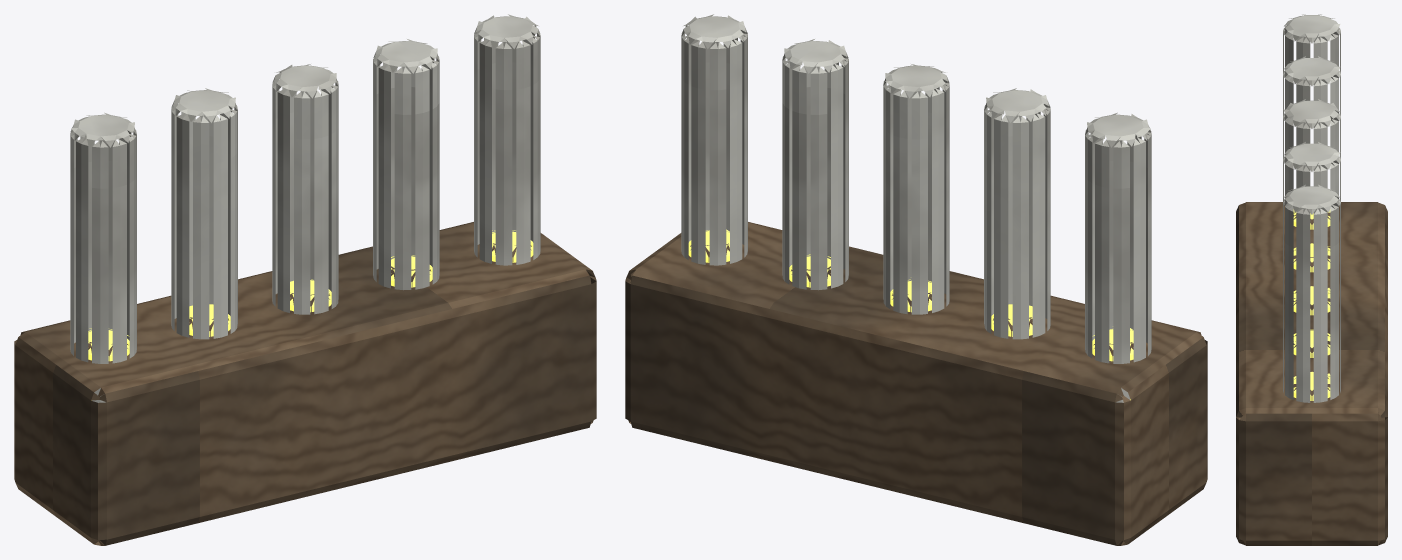
File: Y02_beakers_flasks_v4.glb
3 views of the same model, side by side, from view 1: azimuth 30°, elevation 25°; view 2: azimuth 150°, elevation 25°; view 3: azimuth 270°, elevation 25° (orthographic). The views are drawn at different scales.
Parts seen in each view (by area): view 1: Y02_beakers_flasks_v4; view 2: Y02_beakers_flasks_v4; view 3: Y02_beakers_flasks_v4.
Part boxes in pixels (x1,y1,x2,y2): Y02_beakers_flasks_v4: (14, 14, 596, 545); Y02_beakers_flasks_v4: (625, 14, 1207, 545); Y02_beakers_flasks_v4: (1236, 14, 1387, 545).
Size of the model in its own units: 0.3 by 0.2175 by 0.09.
3 materials, 3 textured.
